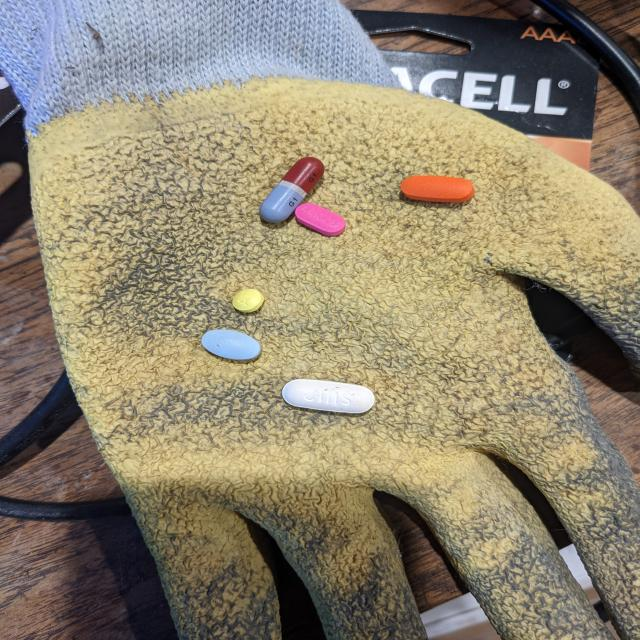non-organic waste: (257, 156, 326, 224), (281, 378, 376, 414), (399, 175, 475, 204), (201, 328, 262, 361), (294, 202, 347, 236), (232, 288, 265, 313)
